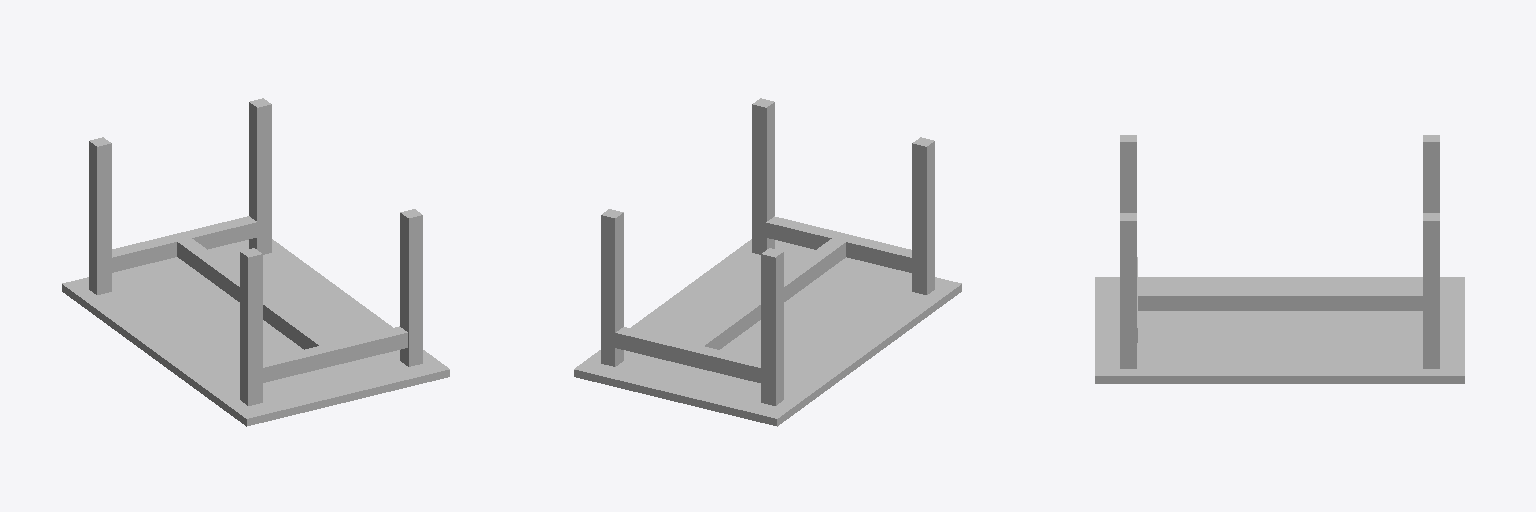
File: table.obj
The picture shows the model from 3 angles: view 1: azimuth 30°, elevation 25°; view 2: azimuth 150°, elevation 25°; view 3: azimuth 270°, elevation 25°; orthographic projection.
Parts seen in each view (by area): view 1: Platte.001, Bein_1.001, Bein_3.001, Stütze_2.001, Bein.001, Stütze_1.001, Bein_2.001, Stütze.001; view 2: Platte.001, Bein_3.001, Bein_1.001, Stütze_2.001, Bein_2.001, Stütze.001, Bein.001, Stütze_1.001; view 3: Platte.001, Stütze_2.001, Bein.001, Bein_2.001, Bein_1.001, Bein_3.001.
Boxes of the visible parts, <box> form: Platte.001: <box>62,239,449,426</box>; Bein_1.001: <box>240,248,262,405</box>; Bein_3.001: <box>89,137,111,294</box>; Stütze_2.001: <box>177,238,338,349</box>; Bein.001: <box>400,209,422,366</box>; Stütze_1.001: <box>263,326,407,382</box>; Bein_2.001: <box>249,98,271,254</box>; Stütze.001: <box>112,216,256,272</box>; Platte.001: <box>574,239,961,426</box>; Bein_3.001: <box>761,248,783,405</box>; Bein_1.001: <box>912,137,934,294</box>; Stütze_2.001: <box>686,239,845,349</box>; Bein_2.001: <box>601,209,623,366</box>; Stütze.001: <box>615,327,760,382</box>; Bein.001: <box>752,98,774,254</box>; Stütze_1.001: <box>766,216,911,272</box>; Platte.001: <box>1095,277,1464,383</box>; Stütze_2.001: <box>1137,289,1422,310</box>; Bein.001: <box>1120,213,1136,368</box>; Bein_2.001: <box>1423,213,1439,368</box>; Bein_1.001: <box>1120,135,1136,212</box>; Bein_3.001: <box>1423,135,1439,212</box>.
Size of the model in its own units: 140 by 103 by 220.